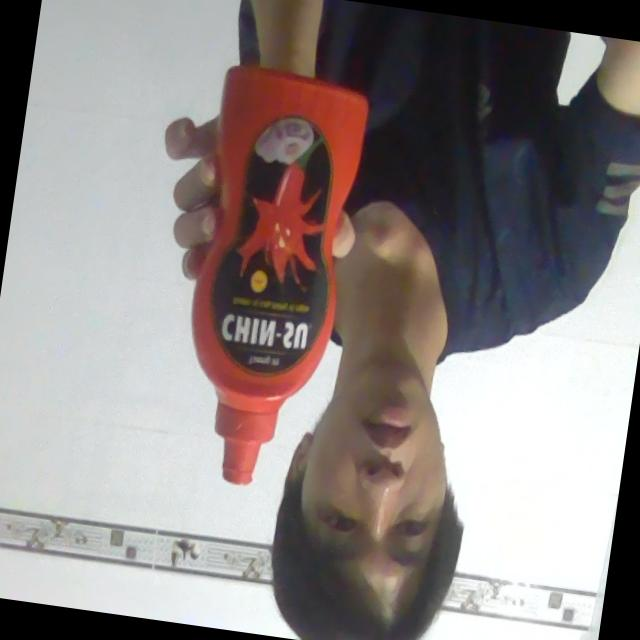tuong ot chinsu: (164, 56, 381, 498)
